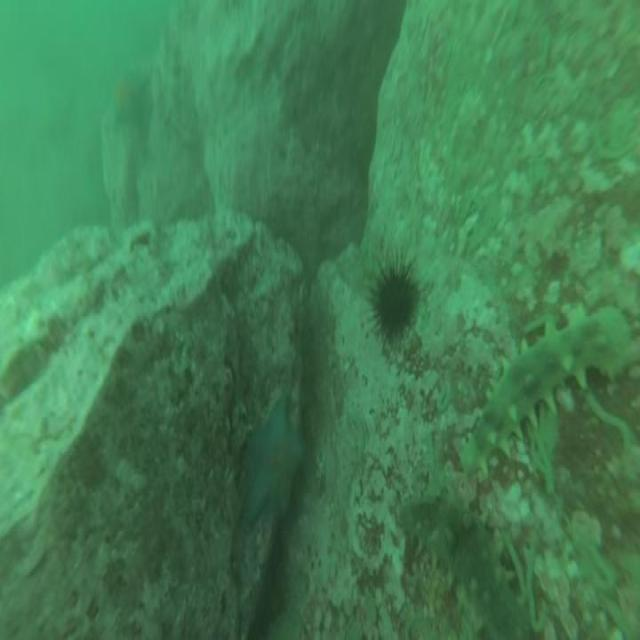echinus: (366, 246, 422, 344)
holothurian: (463, 300, 629, 487), (400, 472, 551, 640)
starfish: (240, 397, 308, 534)
